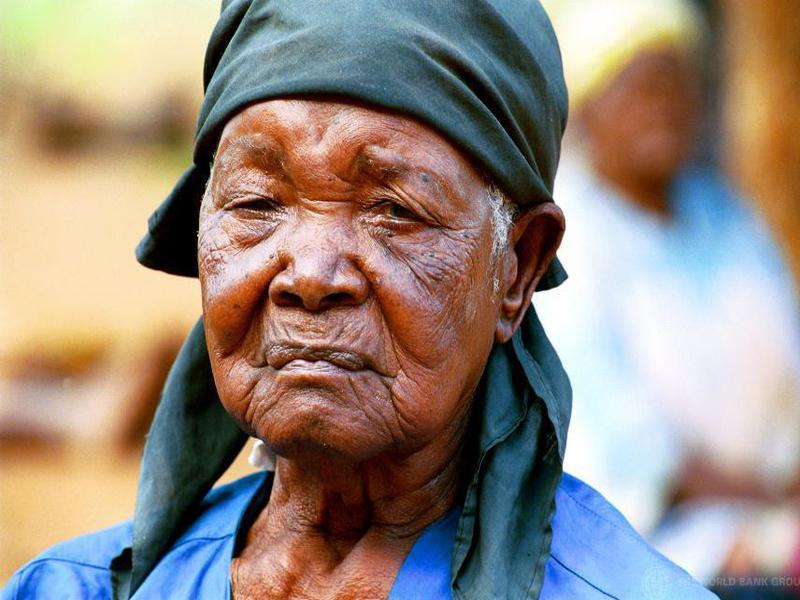person: (15, 1, 725, 598)
